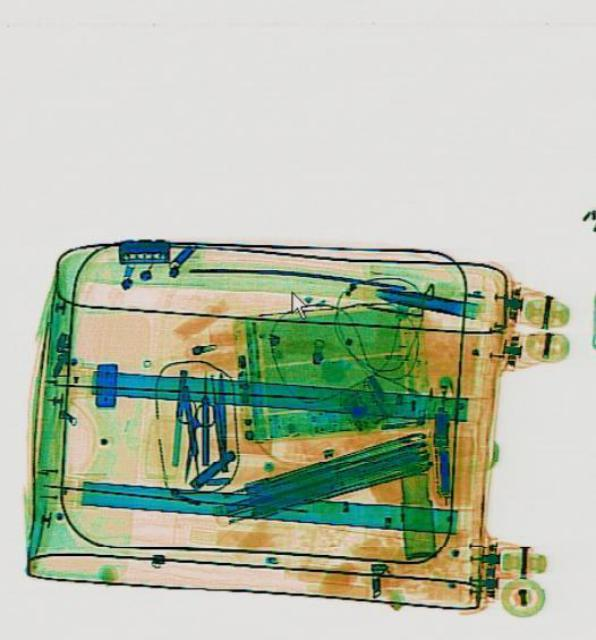Scissors: (163, 394, 214, 486)
